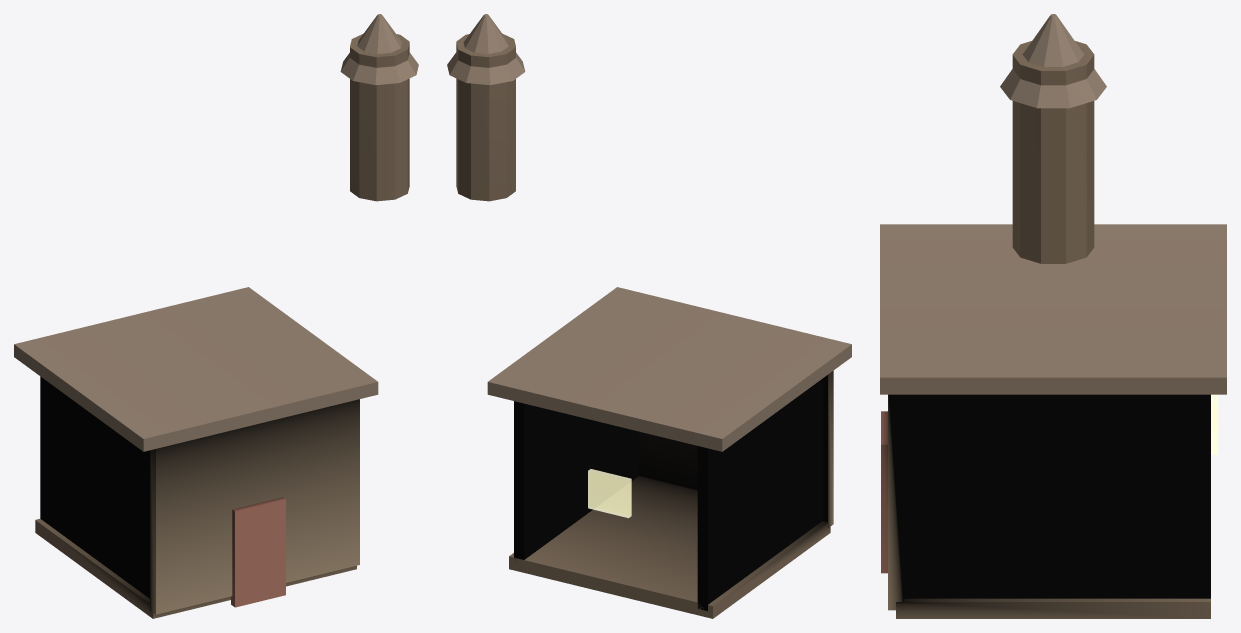
The model's file is farmhouse_l2.glb.
3 renders of one model, left to right at view 1: azimuth 30°, elevation 25°; view 2: azimuth 150°, elevation 25°; view 3: azimuth 270°, elevation 25°, orthographic. The views are drawn at different scales.
Parts seen in each view (by area): view 1: tower; view 2: tower; view 3: tower.
Boxes of the visible parts, box(x1,y1,x2,y2) form: tower: box(14, 14, 418, 618); tower: box(447, 14, 851, 618); tower: box(880, 14, 1226, 618).
Bounding box in the file's own units: 3.27 × 4.63 × 2.2.
